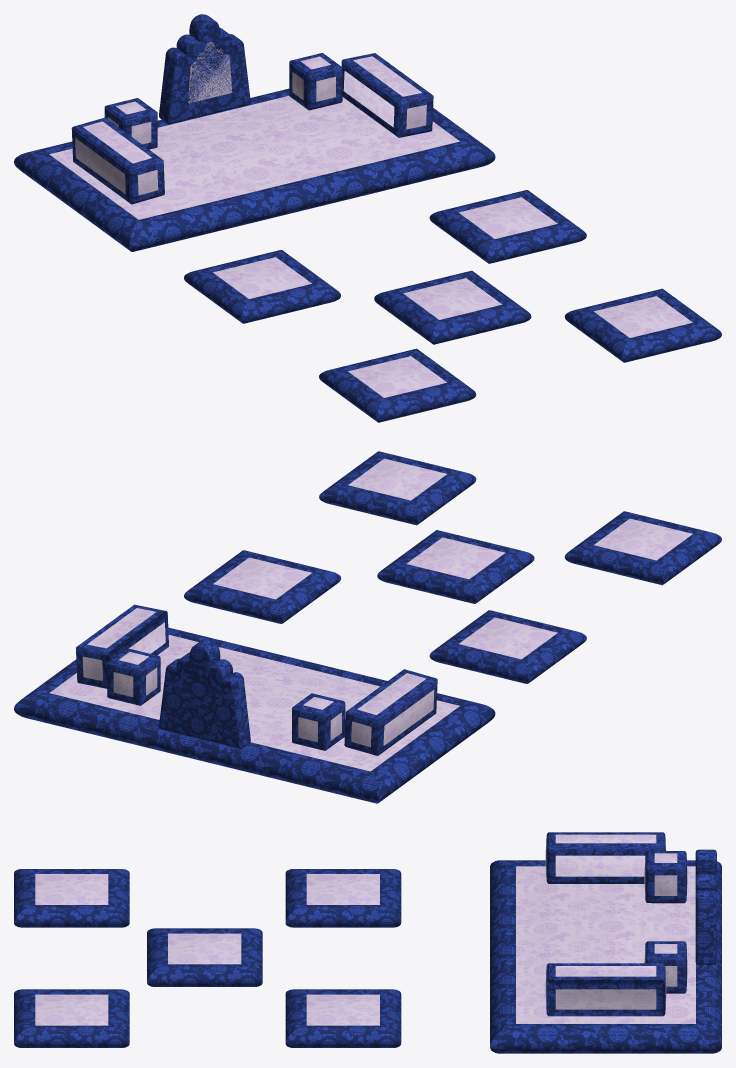
3 views of the same model, one above another, from view 1: azimuth 30°, elevation 25°; view 2: azimuth 150°, elevation 25°; view 3: azimuth 270°, elevation 25° (orthographic).
Parts seen in each view (by area): view 1: 방석; view 2: 방석; view 3: 방석.
Part boxes in pixels (x1=…): 방석: x1=14, y1=14, x2=721, y2=422; 방석: x1=14, y1=451, x2=721, y2=803; 방석: x1=14, y1=832, x2=721, y2=1053.
Bounding box in the file's own units: 86.74 × 26.31 × 145.
